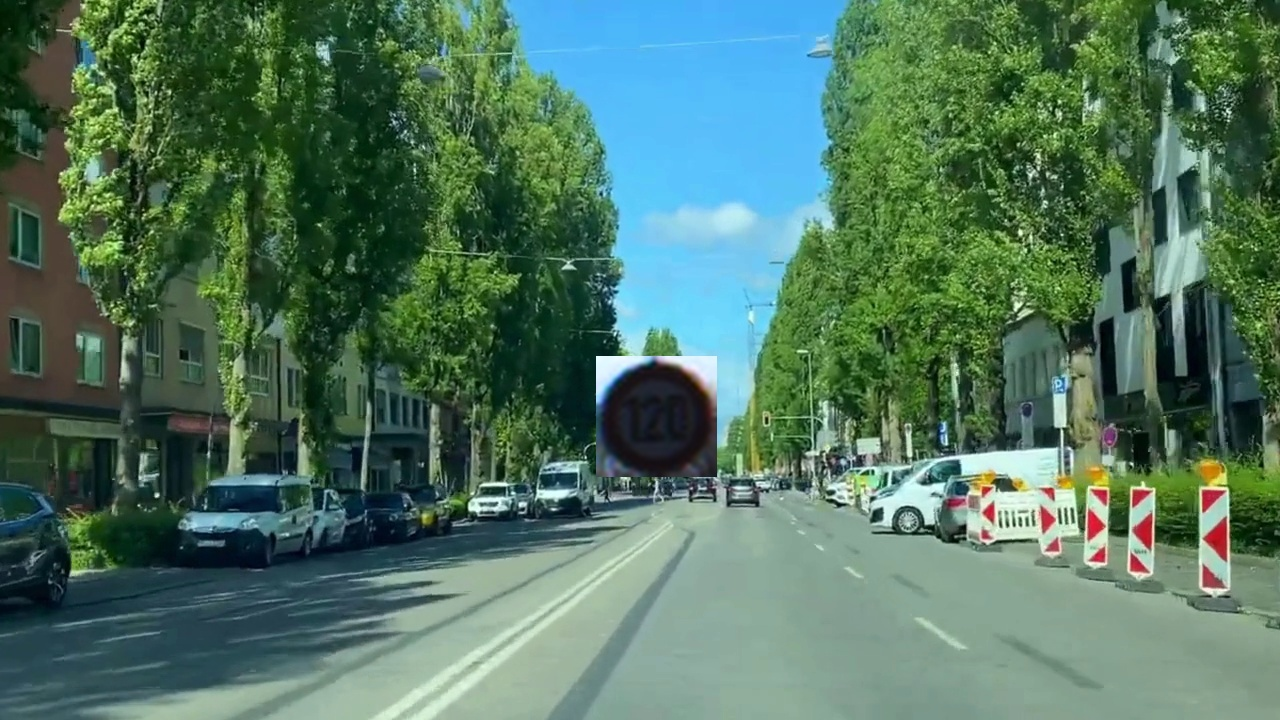Speed 120: (596, 356, 717, 477)
